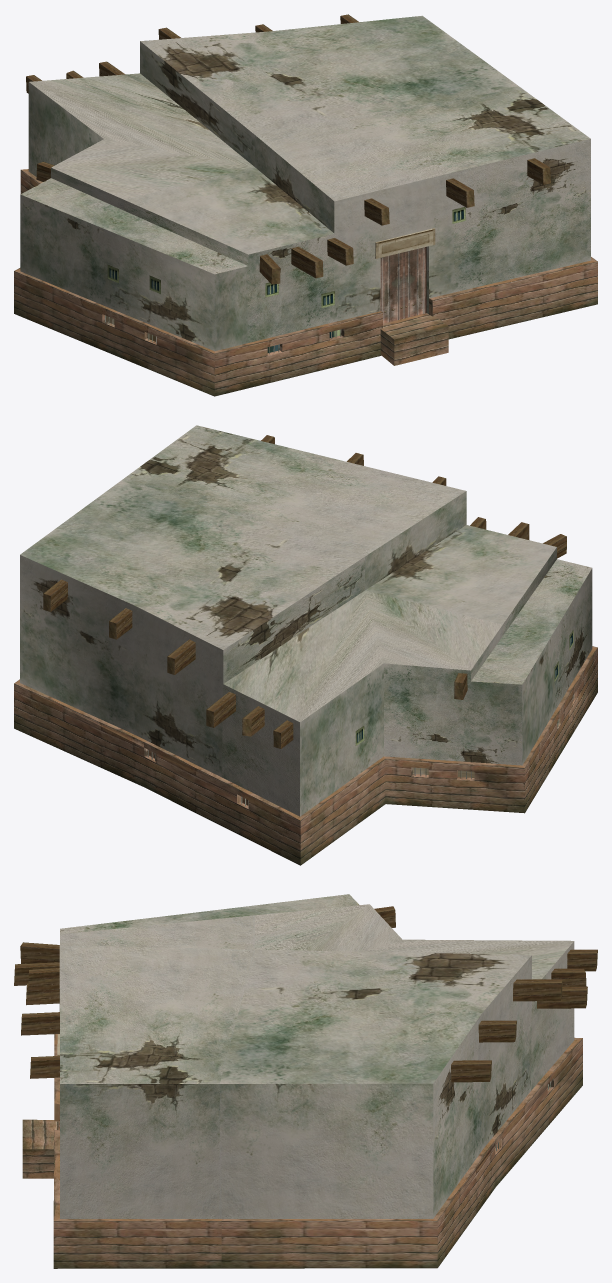
Rendered from pir_m_bld_spn_jail.fbx.
3 renders of one model, top to bottom at view 1: azimuth 30°, elevation 25°; view 2: azimuth 150°, elevation 25°; view 3: azimuth 270°, elevation 25°, orthographic. The views are drawn at different scales.
Parts seen in each view (by area): view 1: building_exterior.001, jail_exteriorbase, door_left, base02, beam_15, beam_11, beam_8, beam_10, beam_9; view 2: building_exterior.001, jail_exteriorbase, beam_6, beam_3; view 3: building_exterior.001, jail_exteriorbase, base02, beam_3, beam_5, beam_8, beam_4, beam_13, beam_6, beam_9, beam_7, beam_1 (+3 smaller).
Boxes of the visible parts, x1,y1,x2,y2 form: building_exterior.001: (20,15,590,351); jail_exteriorbase: (14,169,597,396); door_left: (380,247,426,323); base02: (380,313,448,365); beam_15: (375,228,435,258); beam_11: (291,246,323,278); beam_8: (446,178,474,207); beam_10: (327,238,353,265); beam_9: (364,198,389,225); building_exterior.001: (20,425,592,816); jail_exteriorbase: (14,646,597,865); beam_6: (206,692,235,727); beam_3: (167,639,195,674); building_exterior.001: (59,894,574,1218); jail_exteriorbase: (53,1012,582,1268); base02: (22,1119,59,1178); beam_3: (513,979,562,1001); beam_5: (451,1060,491,1082); beam_8: (21,1012,59,1035); beam_4: (478,1020,516,1042); beam_13: (20,942,59,963); beam_6: (537,986,587,1008); beam_9: (28,968,59,991); beam_7: (30,1056,59,1078); beam_1: (567,949,597,971).
Bounding box in the file's own units: 6565 × 2300 × 6668.
Materials: 2 (2 with a texture image).
